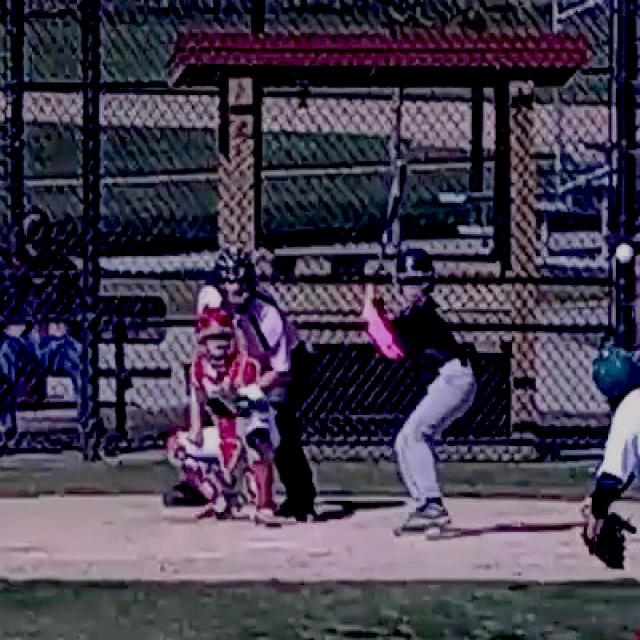baseball: (617, 244, 633, 262)
